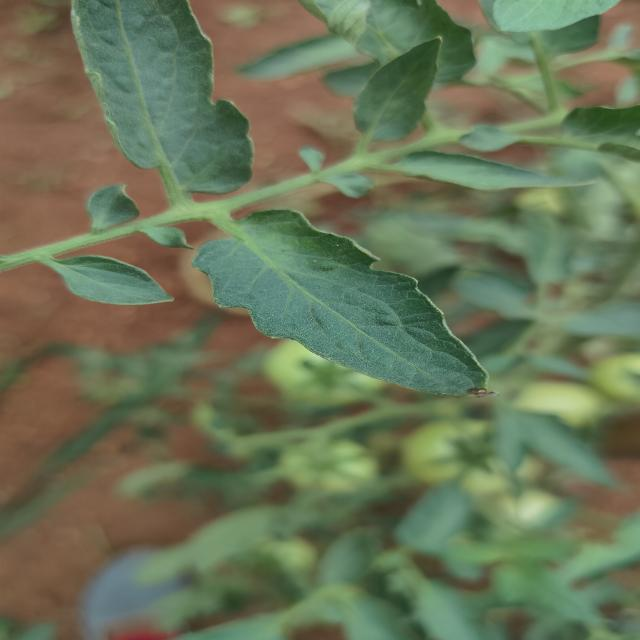tomato_healthy: (192, 210, 487, 396), (70, 0, 251, 204), (354, 36, 441, 140), (394, 150, 588, 190), (40, 255, 172, 305)
